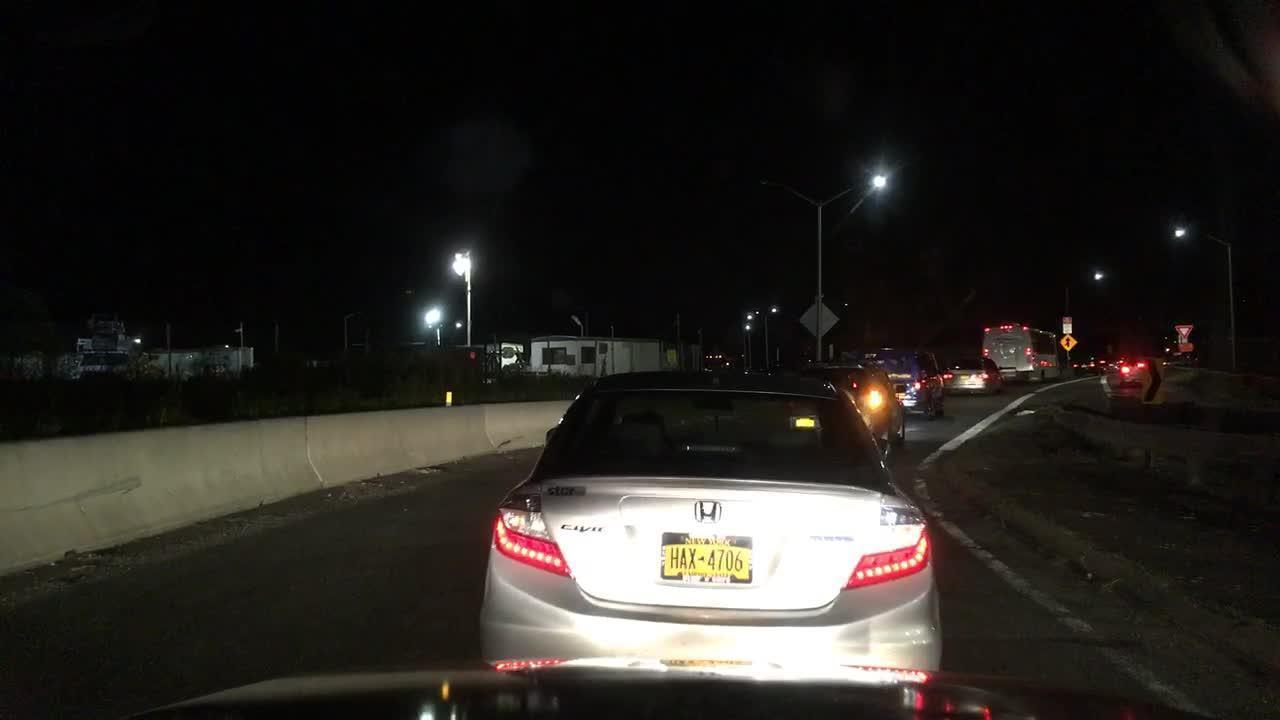Honda: (686, 491, 732, 526)
